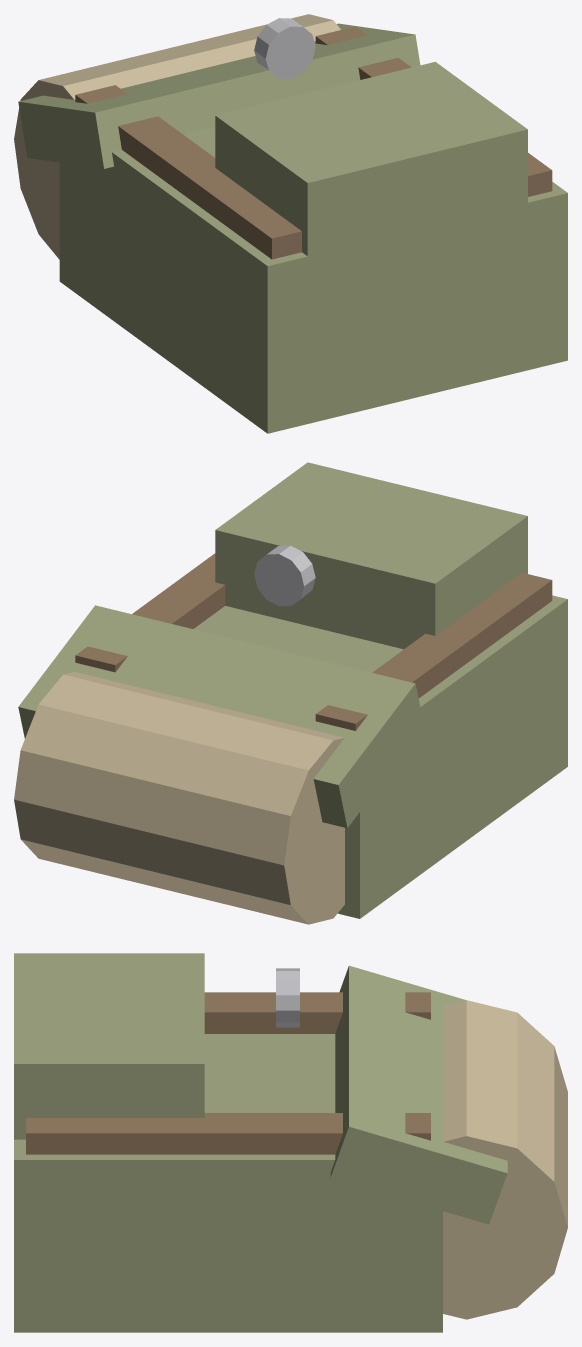
Rendered from zaino_survival.glb.
3 renders of one model, top to bottom at view 1: azimuth 30°, elevation 25°; view 2: azimuth 150°, elevation 25°; view 3: azimuth 270°, elevation 25°, orthographic. The views are drawn at different scales.
Visible parts, largest first — view 1: Body, Pocket, Flap, Bedroll, StrapL, Buckle, StrapR; view 2: Bedroll, Body, Pocket, Flap, StrapL, StrapR, Buckle; view 3: Body, Pocket, Bedroll, Flap, StrapR, StrapL, Buckle.
Boxes of the visible parts, x1,y1,x2,y2 form: Body: (59,127,567,433); Pocket: (215,61,527,264); Flap: (18,23,420,168); Bedroll: (14,14,340,259); StrapL: (75,85,301,259); Buckle: (254,18,315,78); StrapR: (315,26,552,196); Bedroll: (14,672,344,924); Body: (193,595,567,918); Pocket: (215,462,527,649); Flap: (18,605,424,828); StrapL: (315,572,552,730); StrapR: (75,553,225,672); Buckle: (254,545,315,606); Body: (14,1034,442,1332); Pocket: (14,953,204,1139); Bedroll: (443,1000,567,1319); Flap: (330,965,507,1224); StrapR: (26,1113,430,1154); StrapL: (204,992,430,1033); Buckle: (276,968,299,1027).
Bounding box in the file's own units: 0.32 × 0.265 × 0.465.
